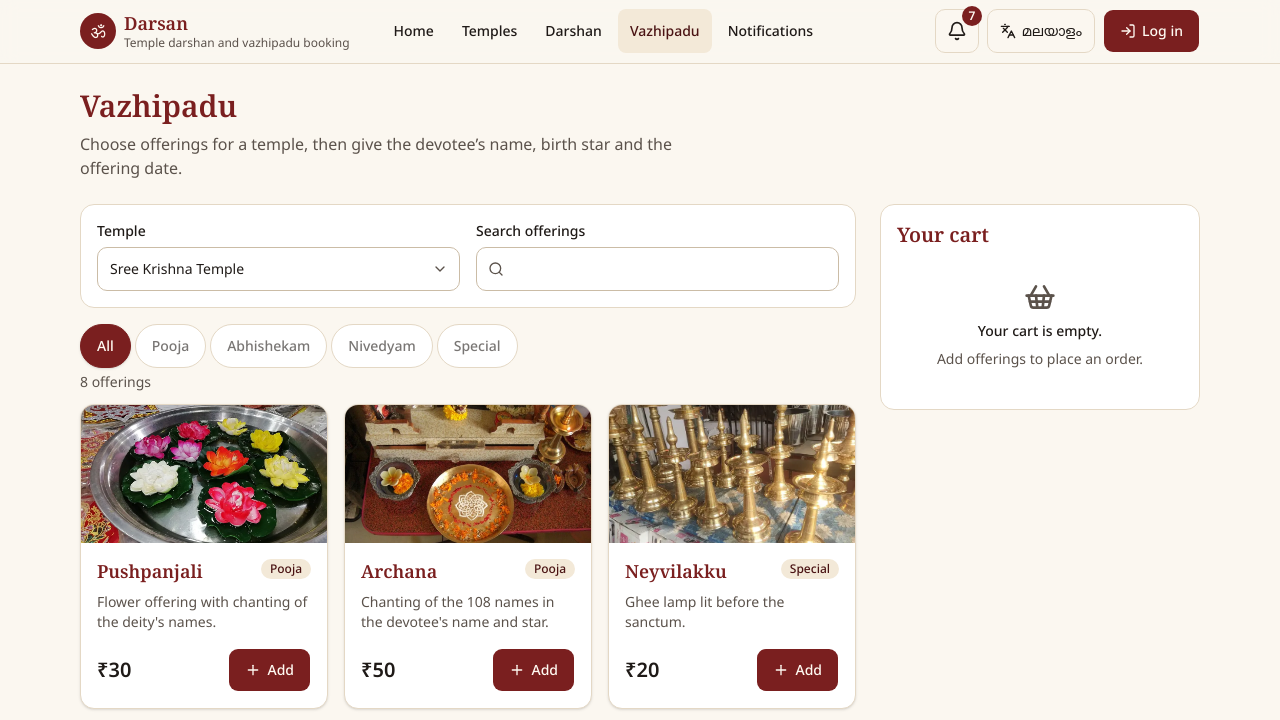
it: V2 · cart and order form › changes quantity within 1–10 and removes lines
This screenshot has width=1280, height=720.
Click the button "Add" next to "₹30" at coordinates (270, 670), box 228,648 -> 311,692
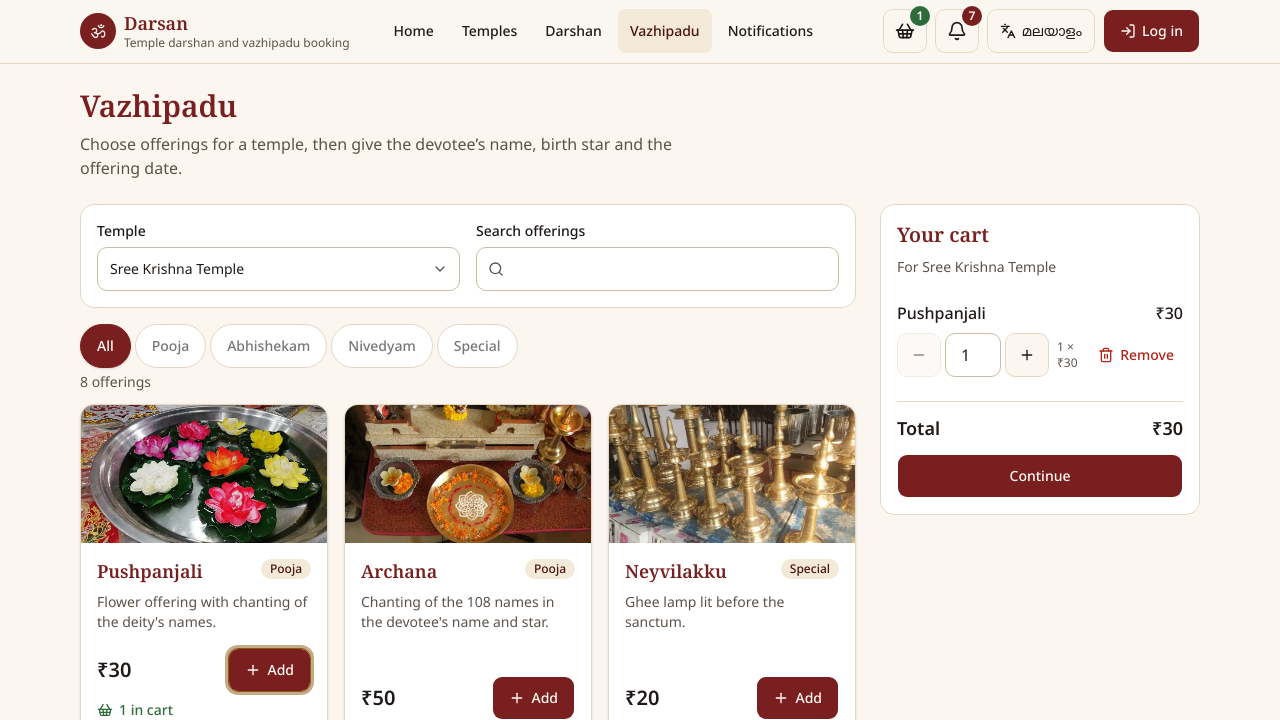
expect the button named "One less Pushpanjali" is disabled: met, box 897,332 -> 941,376
Click the button named "One more Pushpanjali" at coordinates (1027, 354), box 1005,332 -> 1049,376
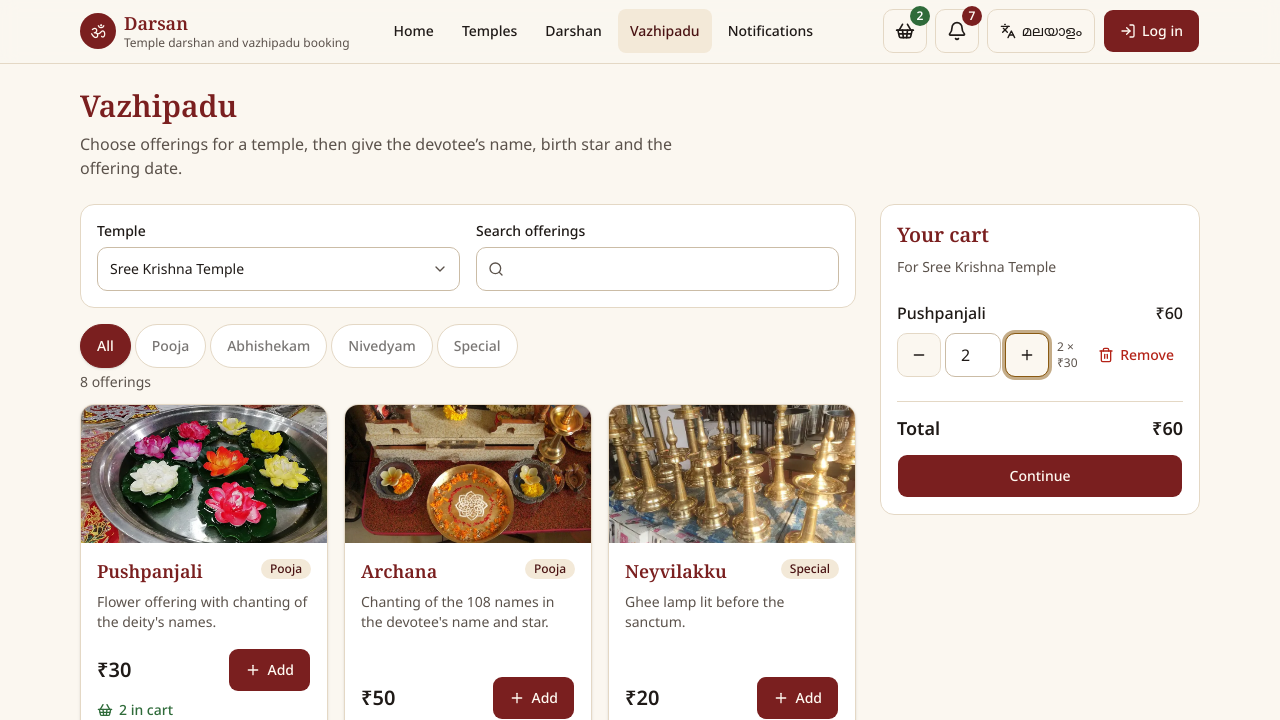
expect the text "₹60" is shown 2 times: met, box 1156,300 -> 1183,324; 1152,414 -> 1183,442
Click the button with aria-label "Remove Pushpanjali" at coordinates (1136, 354), box 1089,332 -> 1183,376
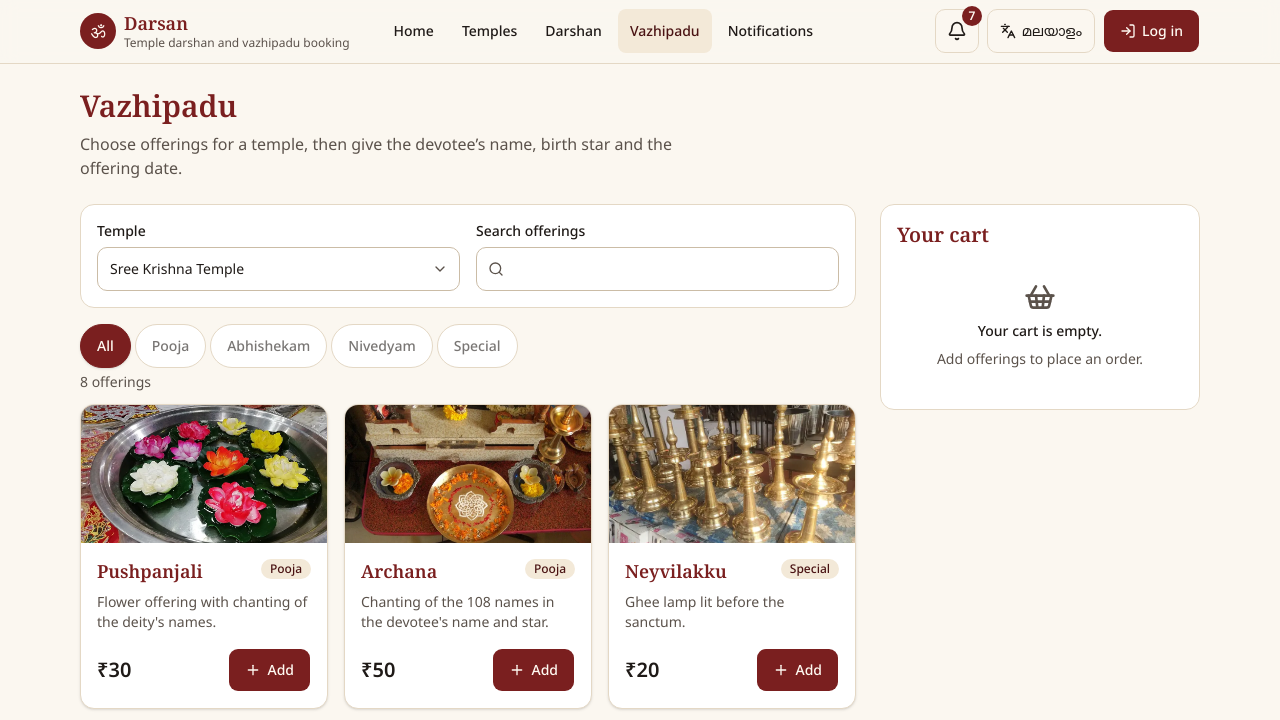
expect the text "Your cart is empty." is shown: met, box 978,320 -> 1102,340
